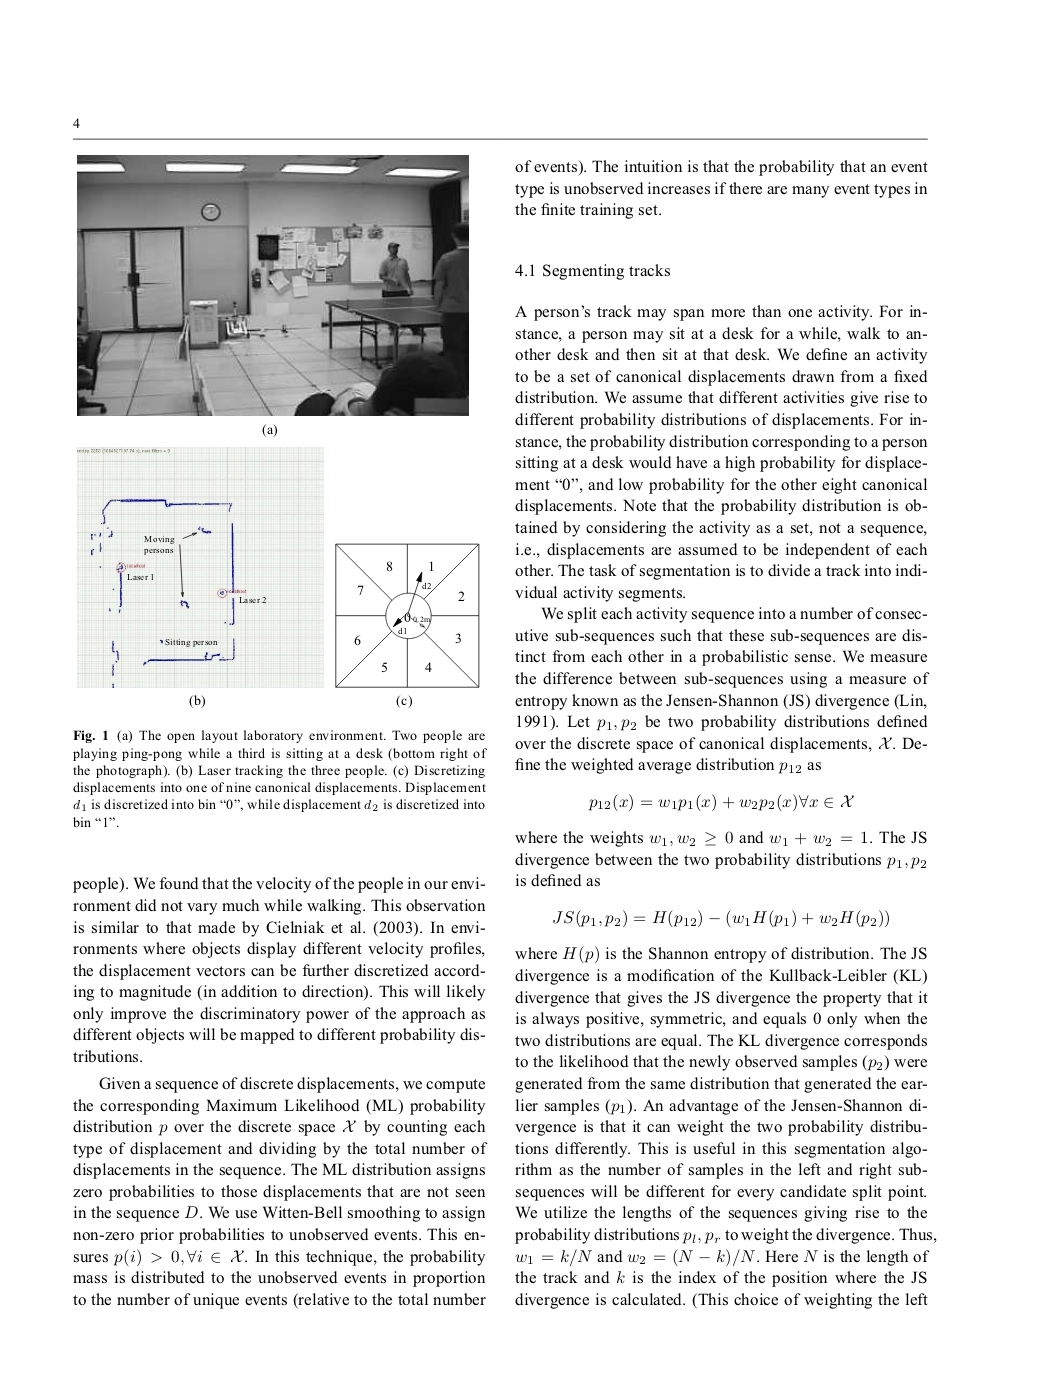figure: (77, 154, 468, 416), (77, 447, 323, 686), (335, 543, 479, 686)
formula: (553, 909, 888, 928), (588, 793, 853, 812)
